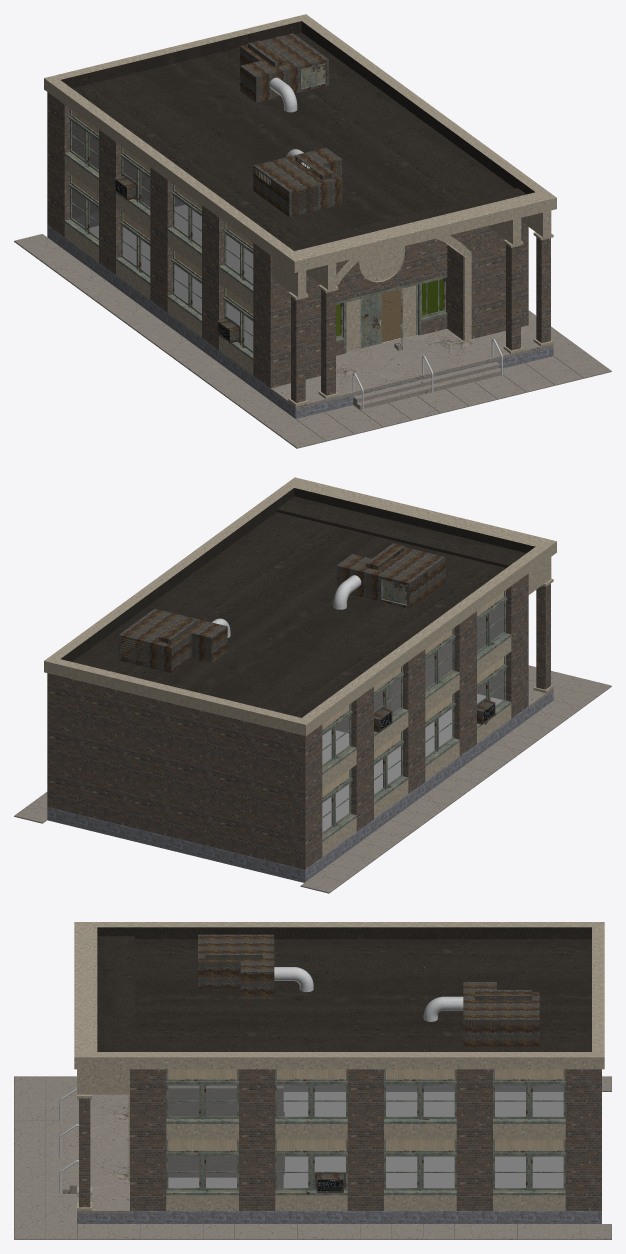
File: Build005.dae
The picture shows the model from 3 angles, top to bottom: view 1: azimuth 30°, elevation 25°; view 2: azimuth 150°, elevation 25°; view 3: azimuth 270°, elevation 25°; orthographic projection. The views are drawn at different scales.
Visible parts, largest first — view 1: group_1 (×15), SketchUp (×2), group_0 (×4), group_5, group_12 (×2), group_6, group_8, group_7; view 2: group_1 (×8), SketchUp (×2), group_0, group_12; view 3: group_1 (×21), SketchUp (×6), group_3 (×20), group_4 (×12), instance_3 (×6), instance_0 (×6), instance_7 (×6), instance_4 (×6), instance_1 (×6), instance_2 (×6), instance_5 (×6), group_12 (+4 smaller).
Part boxes in pixels (box(x1,y1,x2,y2)): group_1 (×15): box(44, 14, 556, 418); SketchUp (×2): box(240, 33, 342, 217); group_0 (×4): box(291, 237, 550, 402); group_5: box(353, 361, 503, 409); group_12 (×2): box(336, 279, 443, 342); group_6: box(360, 294, 381, 348); group_8: box(346, 299, 360, 351); group_7: box(402, 285, 416, 337); group_1 (×8): box(44, 477, 556, 882); SketchUp (×2): box(118, 547, 445, 673); group_0: box(536, 584, 550, 689); group_12: box(336, 645, 446, 732); group_1 (×21): box(74, 922, 604, 1223); SketchUp (×6): box(198, 934, 539, 1046); group_3 (×20): box(14, 1224, 611, 1239); group_4 (×12): box(14, 1091, 76, 1223); instance_3 (×6): box(384, 1139, 456, 1190); instance_0 (×6): box(493, 1139, 565, 1190); instance_7 (×6): box(166, 1139, 238, 1190); instance_4 (×6): box(384, 1069, 456, 1119); instance_1 (×6): box(493, 1069, 565, 1119); instance_2 (×6): box(166, 1069, 238, 1119); instance_5 (×6): box(275, 1069, 347, 1119); group_12: box(168, 1088, 283, 1187).
Size of the model in its own units: 587 by 912 by 317.
